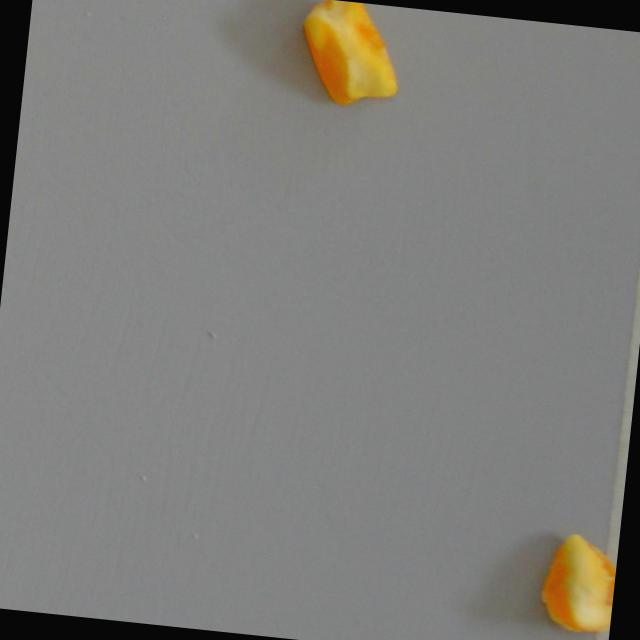estandar: (294, 0, 405, 111)
pelicula: (536, 529, 618, 637)
